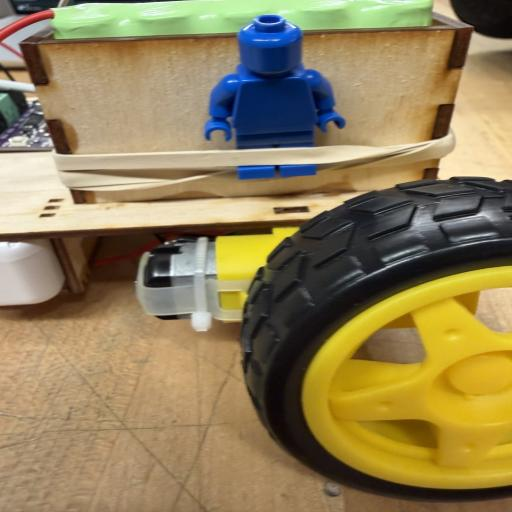Blue-Lego: (205, 14, 345, 149), (238, 164, 317, 179)
